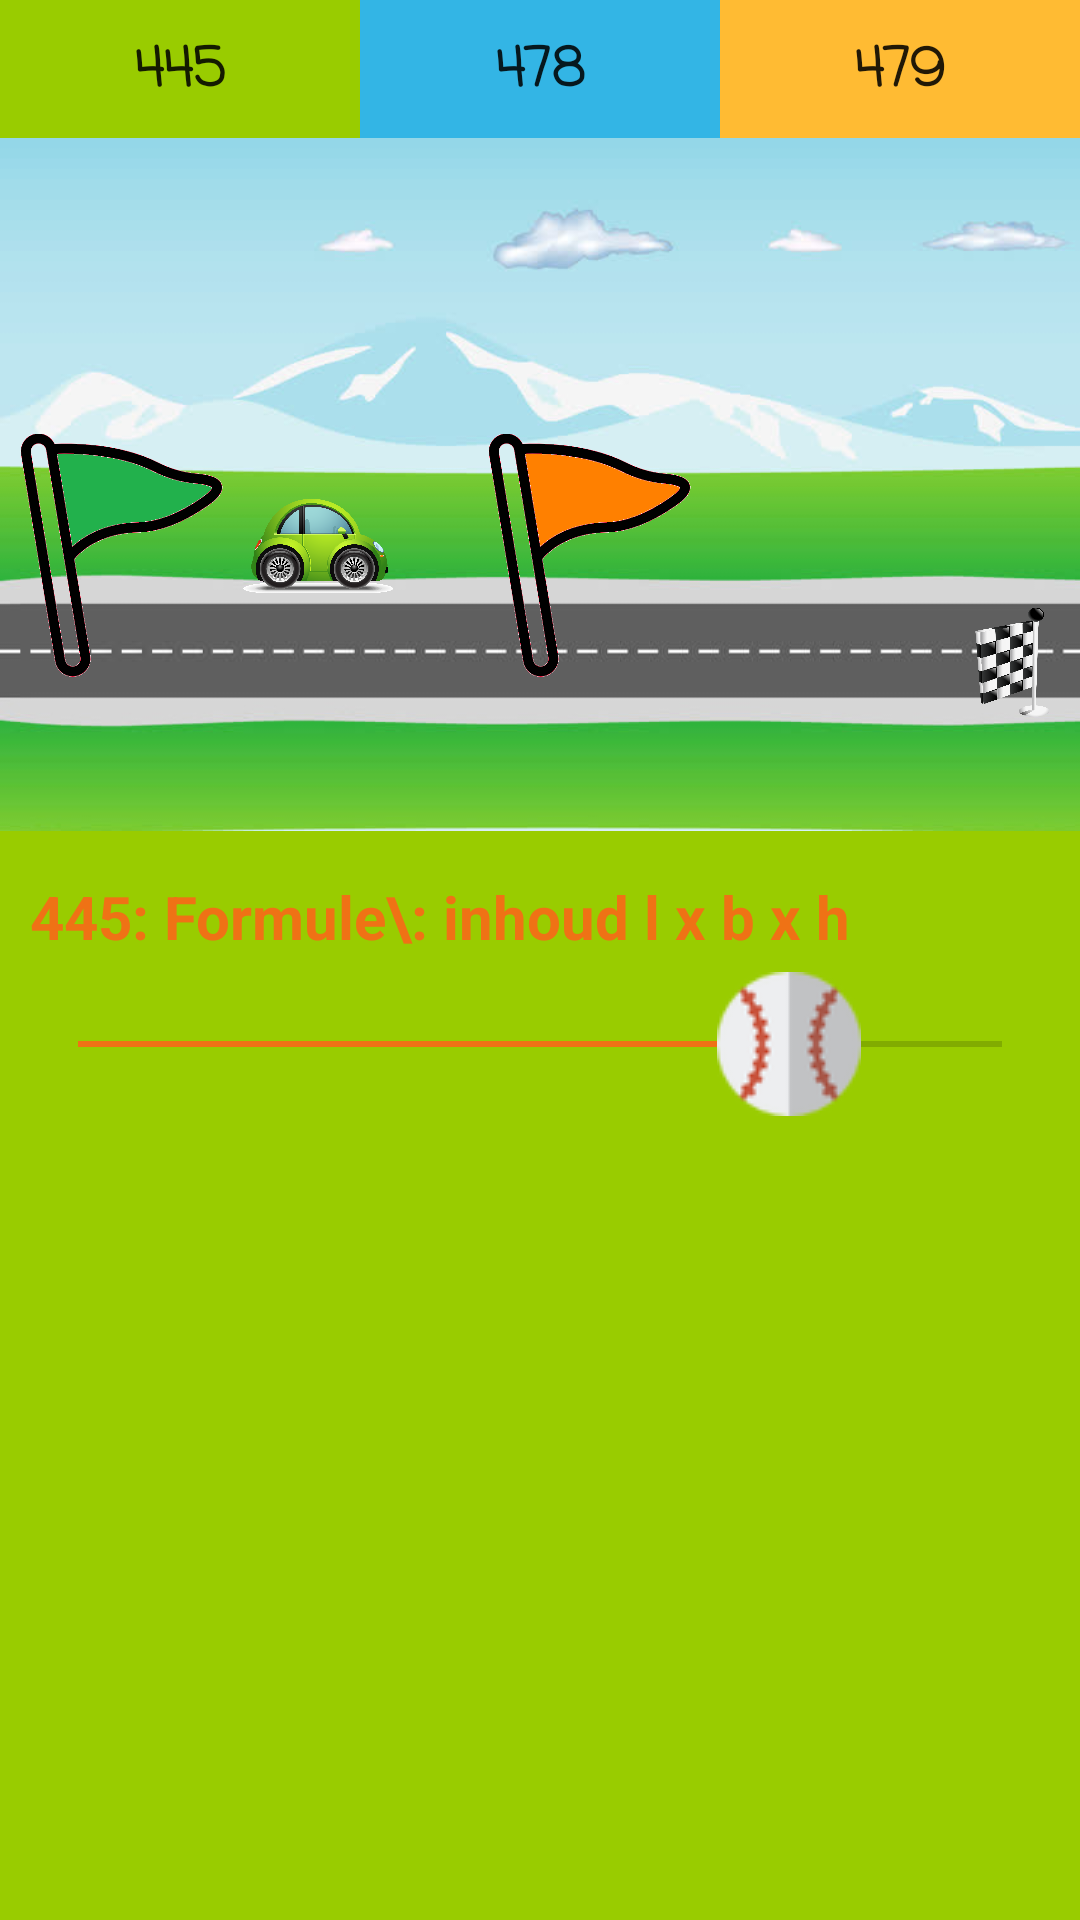

Icons on this 1080px×1920px Android screen, each with the point to tap as (x,y):
carr: (318,546)
flag: (1018,661)
greenflag: (121,555)
orangeflag: (589,555)
